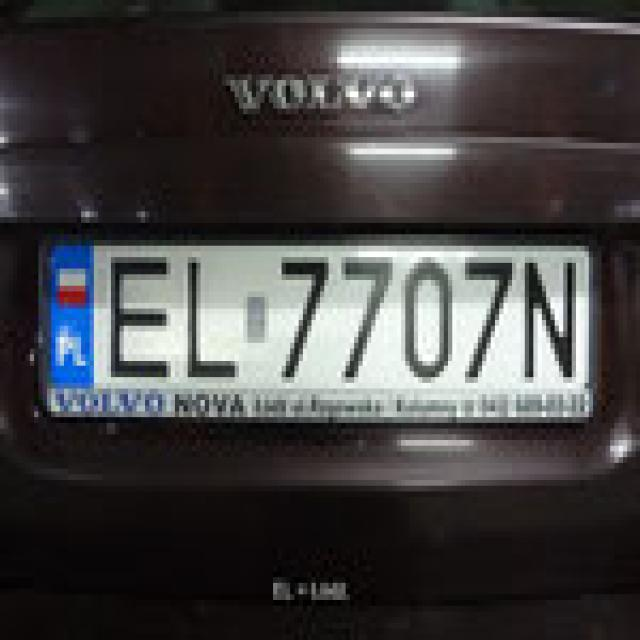pl_license_plate: (47, 240, 584, 377)
